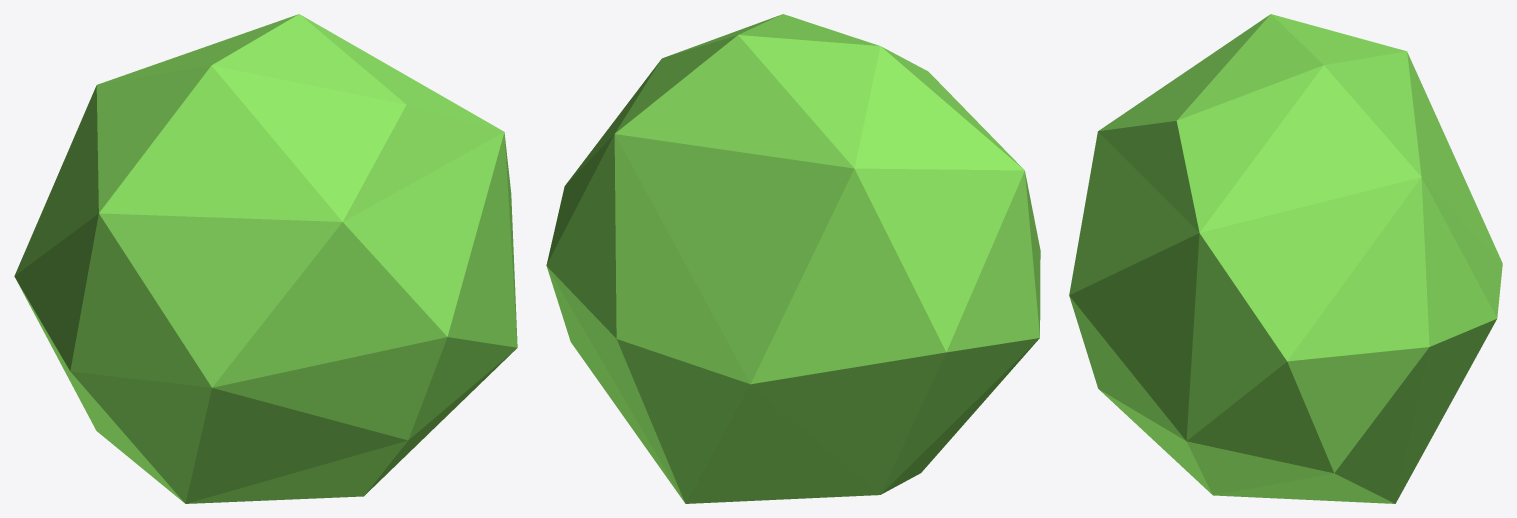
The model's file is Cespuglio 2.fbx.
3 views of the same model, side by side, from view 1: azimuth 30°, elevation 25°; view 2: azimuth 150°, elevation 25°; view 3: azimuth 270°, elevation 25° (orthographic). The views are drawn at different scales.
Parts seen in each view (by area): view 1: Icosphere.012; view 2: Icosphere.012; view 3: Icosphere.012.
Boxes of the visible parts, x1,y1,x2,y2 form: Icosphere.012: (14, 14, 517, 503); Icosphere.012: (546, 14, 1040, 503); Icosphere.012: (1069, 14, 1502, 503).
Size of the model in its own units: 49.15 by 45.74 by 41.68.
